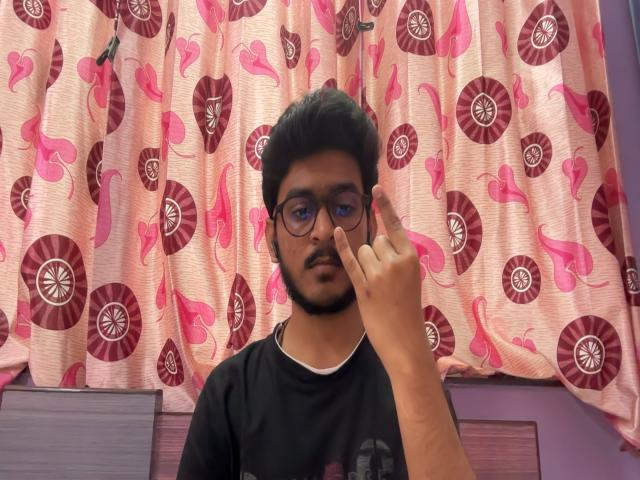I Love You: (327, 178, 450, 356)
